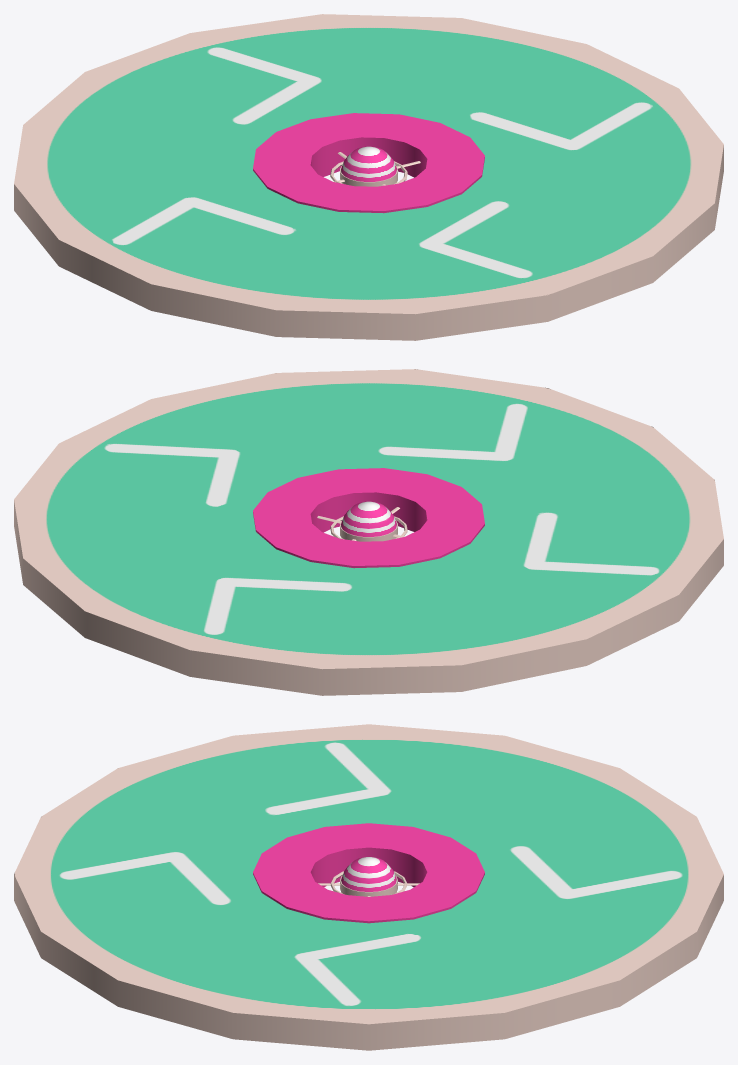
File: PLF0110009.fbx
The picture shows the model from 3 angles, top to bottom: view 1: azimuth 30°, elevation 25°; view 2: azimuth 150°, elevation 25°; view 3: azimuth 270°, elevation 25°; orthographic projection.
Visible parts, largest first — view 1: smPLF0110009; view 2: smPLF0110009; view 3: smPLF0110009.
Part boxes in pixels (bbox=[...]): smPLF0110009: bbox=[14, 14, 723, 340]; smPLF0110009: bbox=[14, 369, 723, 695]; smPLF0110009: bbox=[14, 724, 723, 1050].
Size of the model in its own units: 545 by 36.99 by 545.
Materials: 1 (1 with a texture image).
